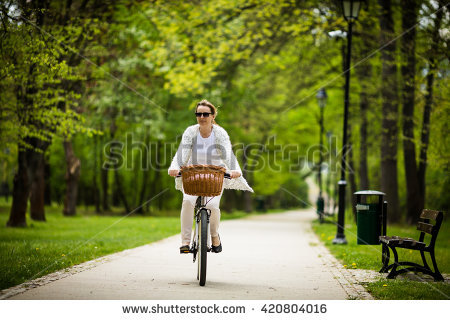bikerider: (163, 96, 246, 302)
